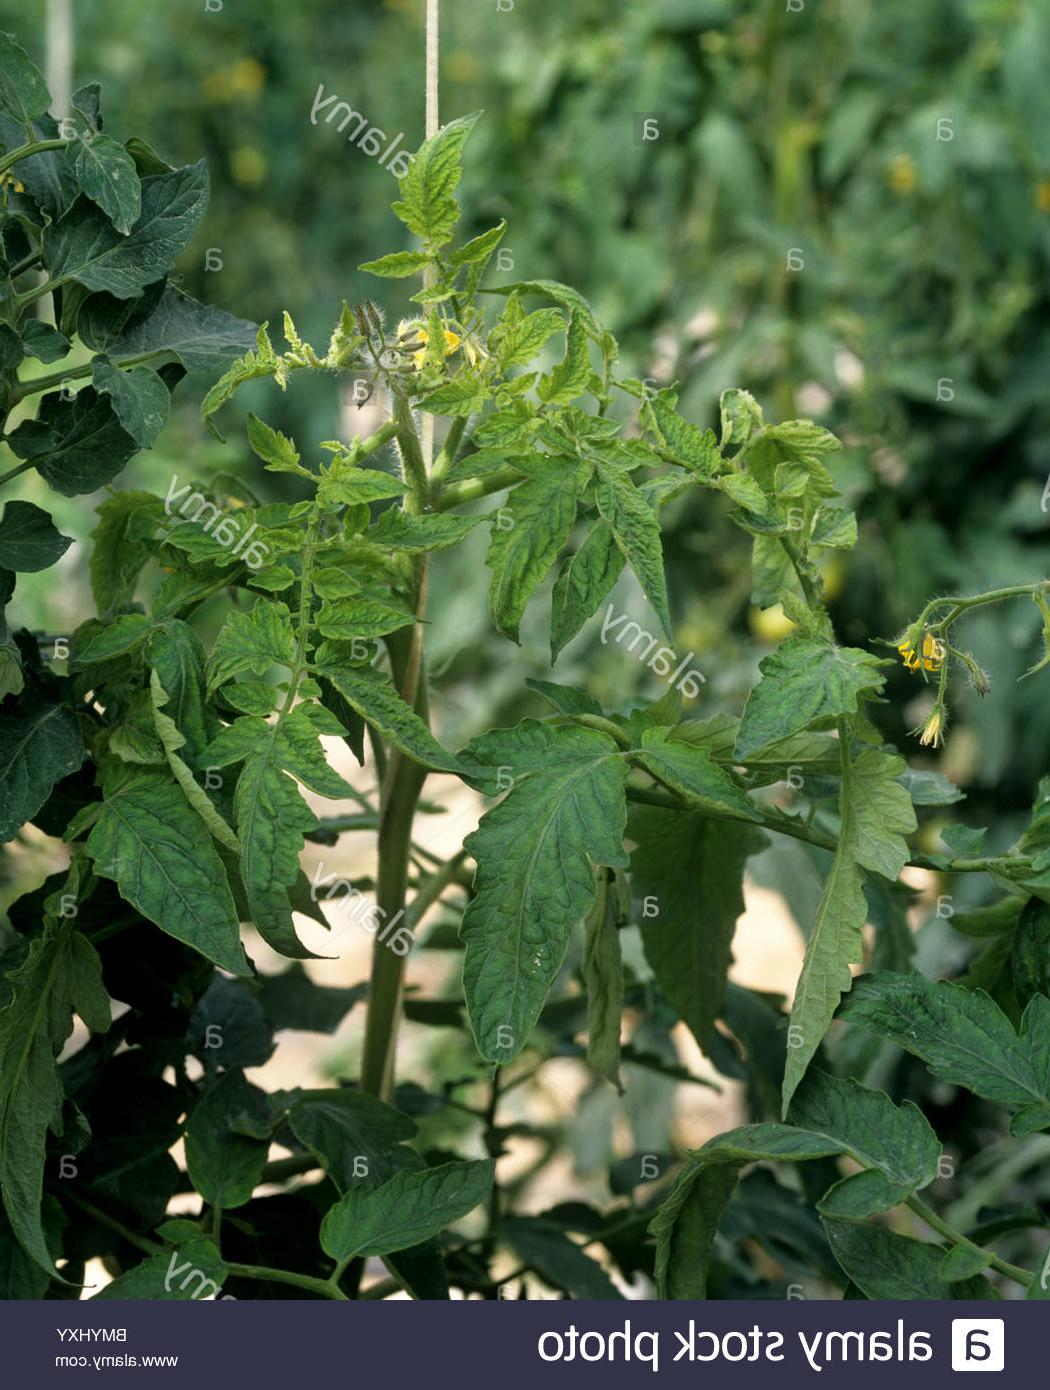Tomato leaf yellow virus: (235, 446, 437, 953), (715, 712, 952, 1120), (452, 731, 629, 1074), (581, 418, 669, 664)
